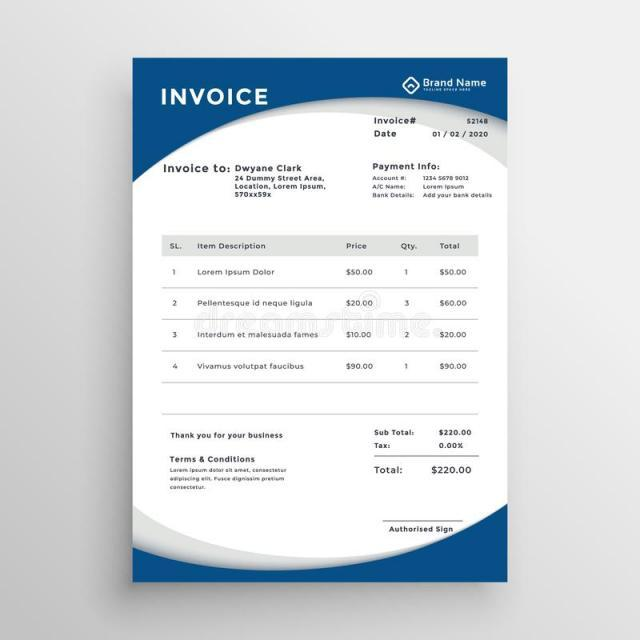customer_address: (230, 173, 329, 203)
customer_name: (233, 161, 318, 174)
invoice_date: (428, 128, 500, 143)
invoice_number: (452, 116, 500, 124)
invoice_subtotal: (437, 426, 483, 438)
invoice_total: (430, 464, 486, 481)
item_description: (193, 261, 325, 386)
item_quantity: (395, 263, 419, 392)
item_total_price: (435, 260, 475, 390)
item_unit_price: (341, 264, 380, 392)
supplier_name: (422, 76, 489, 88)
tax_rate: (436, 440, 476, 454)
